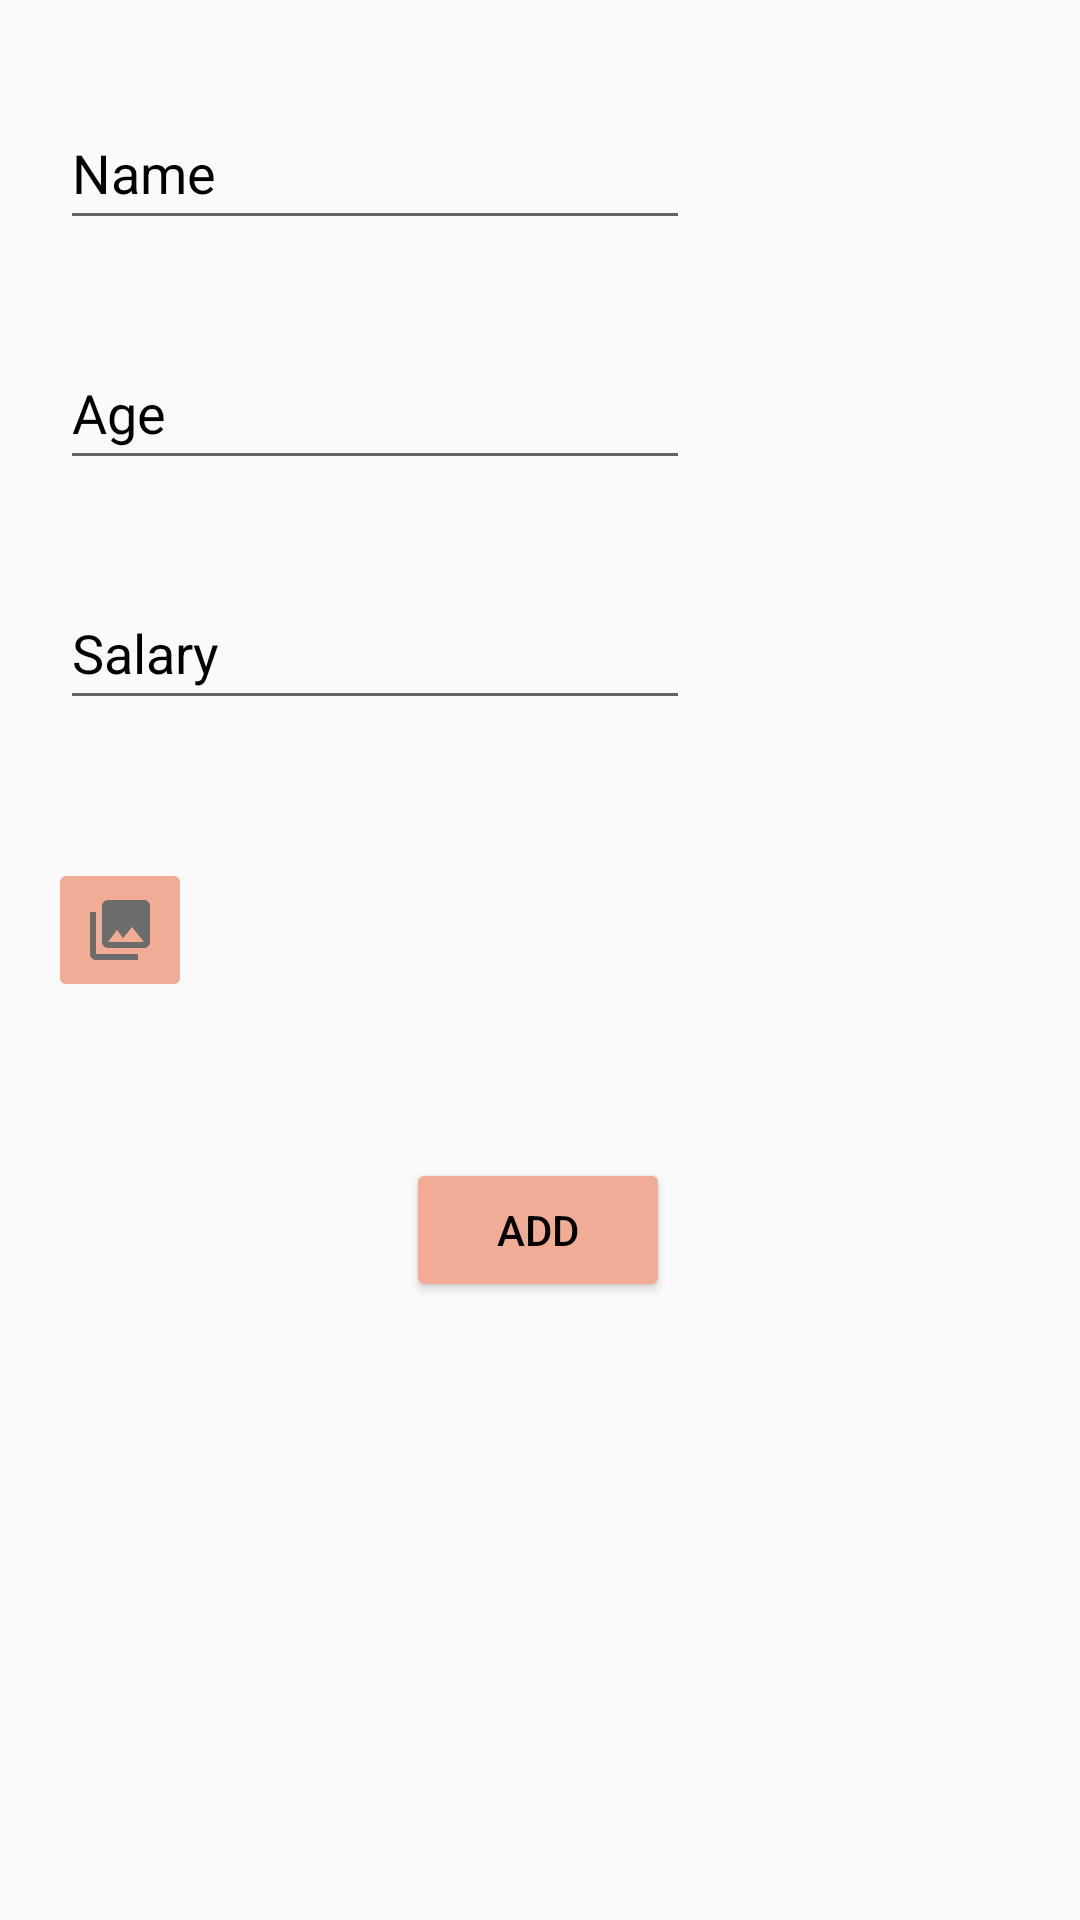

Screen size 1080*1920. Icon name, then its center in pixels as (x,y):
Add from gallery: (120,930)
